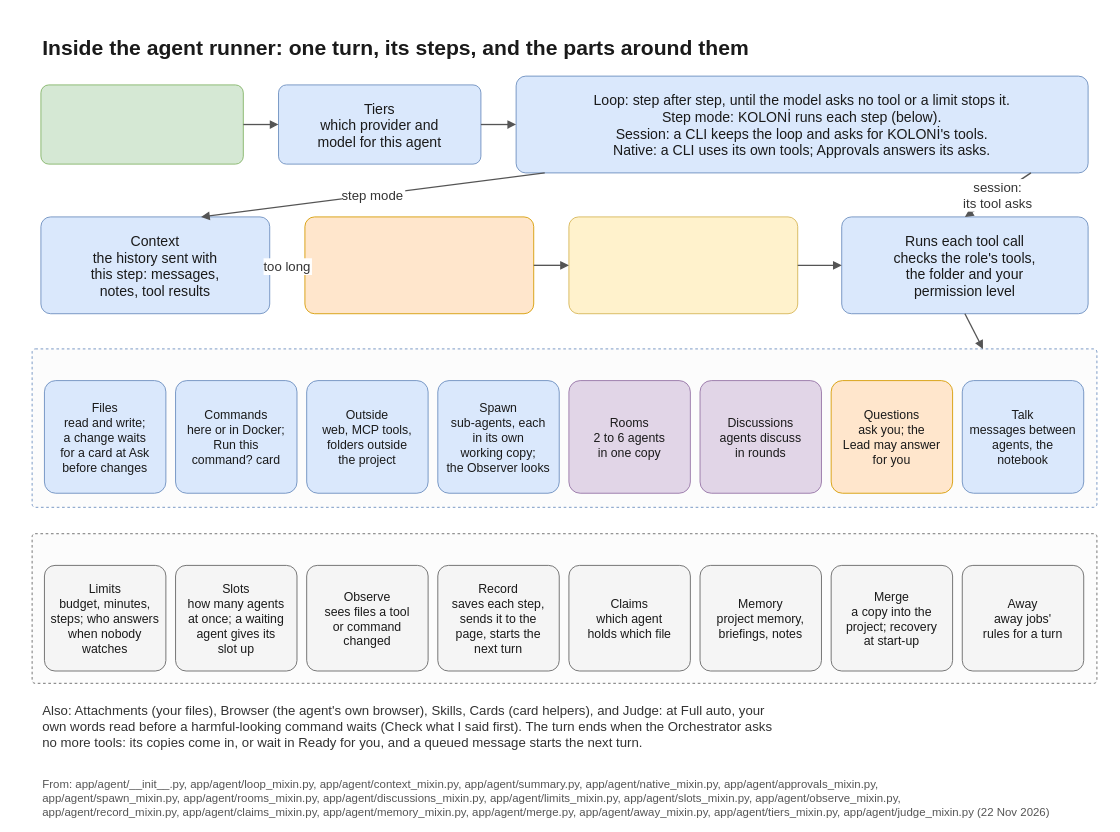
The diagram is 1120 pixels wide and 832 high, and some of its shapes have lost their labels. Each missing label, with the box of its shape:
A tool call goes to one of these: (31, 348, 1097, 507)
A turn starts one task per turn, the Orchestrator first: (40, 84, 243, 164)
Around every step: (31, 533, 1097, 683)
Compaction past Summarise a long context at: the older part summed (Compact now): (304, 216, 534, 314)
Model step an API, a model server or a CLI; the answer streams to the page: (568, 216, 798, 314)
